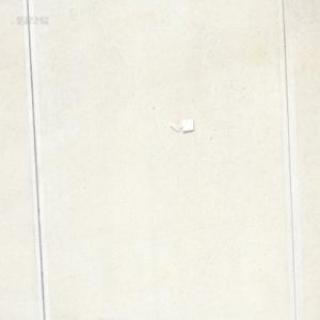LuggageTagtrack_idkeyframe: (168, 116, 194, 134)
